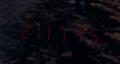five: (88, 21, 101, 46)
four: (74, 21, 87, 45)
one: (31, 18, 44, 42), (46, 19, 59, 43)
seven: (60, 20, 73, 44)
two: (17, 17, 30, 41)
